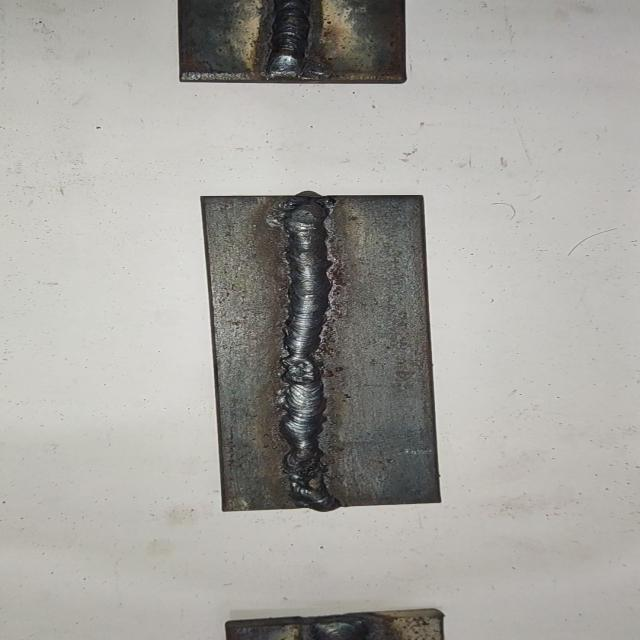Defect: (270, 444, 343, 502)
Welding Line: (279, 197, 337, 506), (270, 0, 312, 76)
Workpiece: (187, 190, 451, 517), (172, 0, 415, 87)
